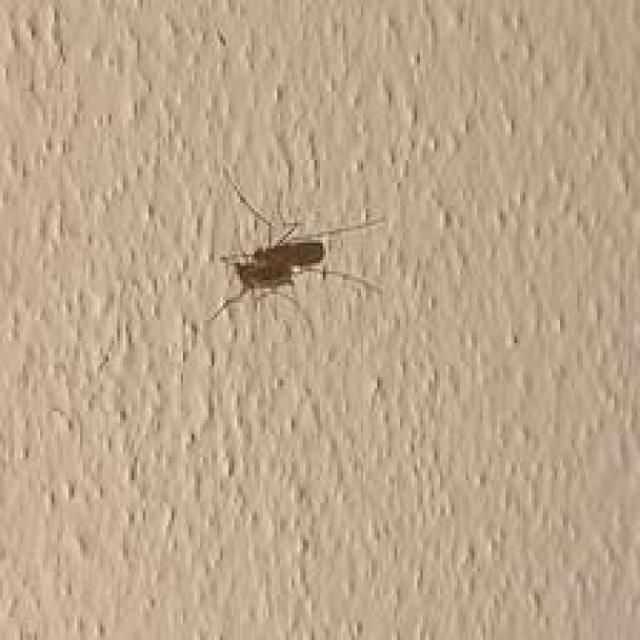Culex: (206, 166, 386, 331)
